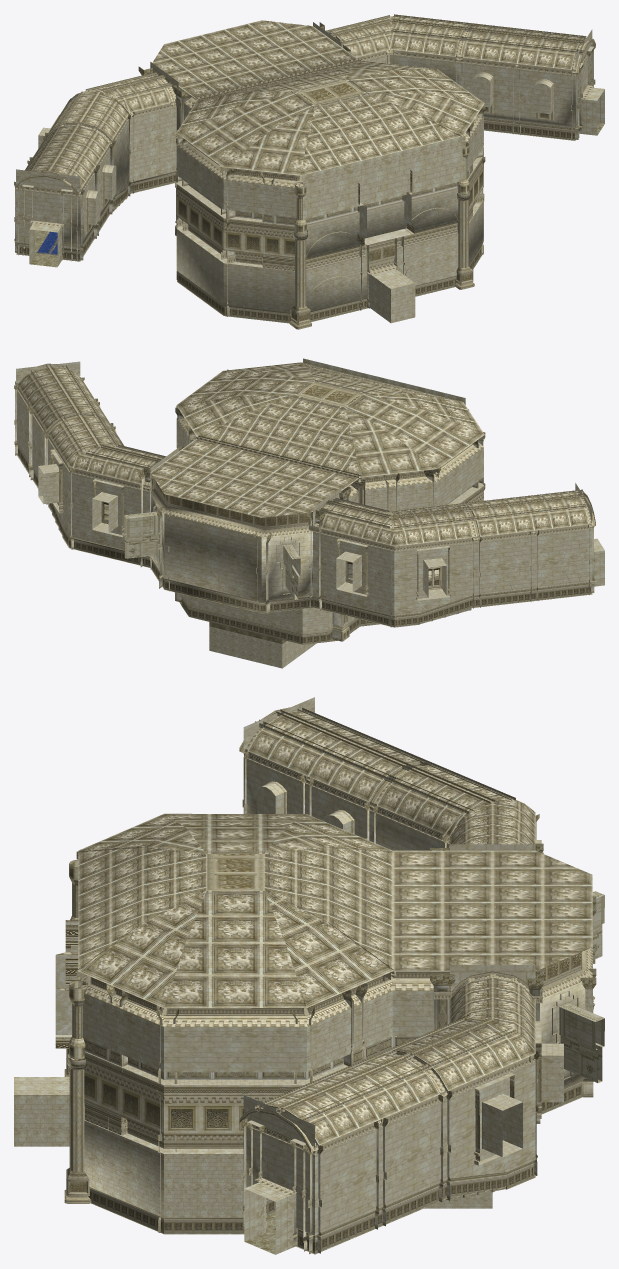
3 views of the same model, one above another, from view 1: azimuth 30°, elevation 25°; view 2: azimuth 150°, elevation 25°; view 3: azimuth 270°, elevation 25° (orthographic). The views are drawn at different scales.
Visible parts, largest first — view 1: Shape 7, Shape 16, Shape 0, Shape 24, Shape 2, Shape 3, Shape 1, Shape 13, Shape 6, Shape 4, Shape 5, Shape 23; view 2: Shape 16, Shape 7, Shape 0, Shape 24, Shape 1, Shape 6, Shape 11, Shape 3, Shape 5, Shape 23, Shape 10, Shape 20; view 3: Shape 16, Shape 7, Shape 0, Shape 2, Shape 1, Shape 24, Shape 3, Shape 11, Shape 4, Shape 6, Shape 13, Shape 5 (+1 smaller).
Boxes of the visible parts, x1,y1,x2,y2 form: Shape 7: (16,22,604,323); Shape 16: (25,16,583,189); Shape 0: (14,14,595,329); Shape 24: (17,121,574,322); Shape 2: (88,107,550,258); Shape 3: (15,50,593,313); Shape 1: (15,55,581,316); Shape 13: (176,61,484,322); Shape 6: (290,80,473,324); Shape 4: (176,96,472,225); Shape 5: (14,22,595,245); Shape 23: (16,122,604,267); Shape 16: (17,362,588,546); Shape 7: (16,358,604,668); Shape 0: (14,363,595,641); Shape 24: (18,447,591,644); Shape 1: (14,415,594,644); Shape 6: (151,381,363,529); Shape 11: (124,503,300,599); Shape 3: (15,379,594,638); Shape 5: (14,369,594,561); Shape 23: (17,455,592,627); Shape 10: (101,501,441,589); Shape 20: (179,602,379,643); Shape 16: (78,710,592,1145); Shape 7: (14,697,593,1254); Shape 0: (55,707,595,1246); Shape 2: (69,859,446,1199); Shape 1: (84,846,593,1254); Shape 24: (88,1083,582,1253); Shape 3: (55,755,540,1251); Shape 11: (552,891,604,1082); Shape 4: (83,986,448,1079); Shape 6: (66,854,581,1196); Shape 13: (66,815,394,1193); Shape 5: (106,751,596,1154).
Bounding box in the file's own units: 7144 × 2389 × 4136.
